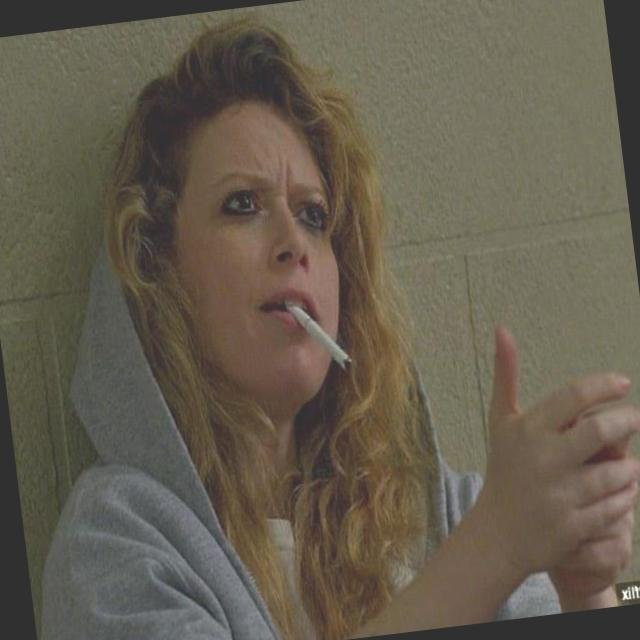cigarette: (260, 266, 378, 398)
